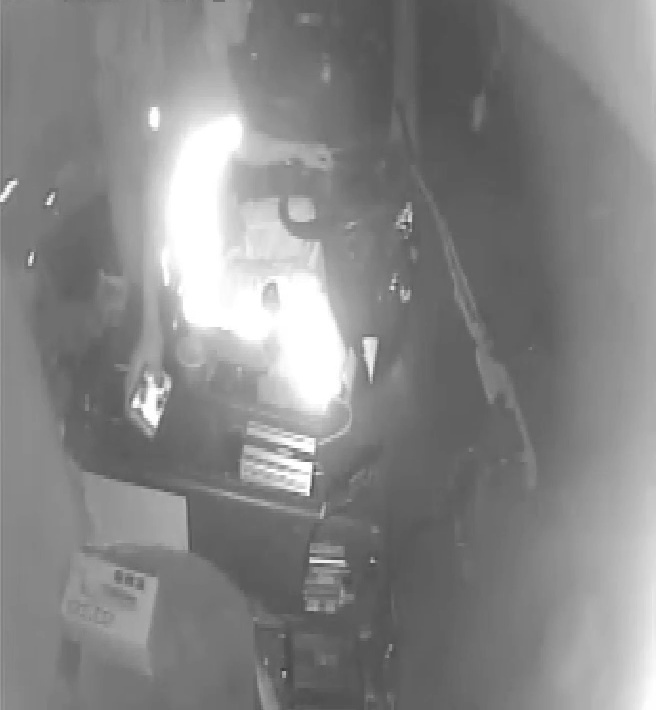cellphone: (126, 359, 171, 437)
